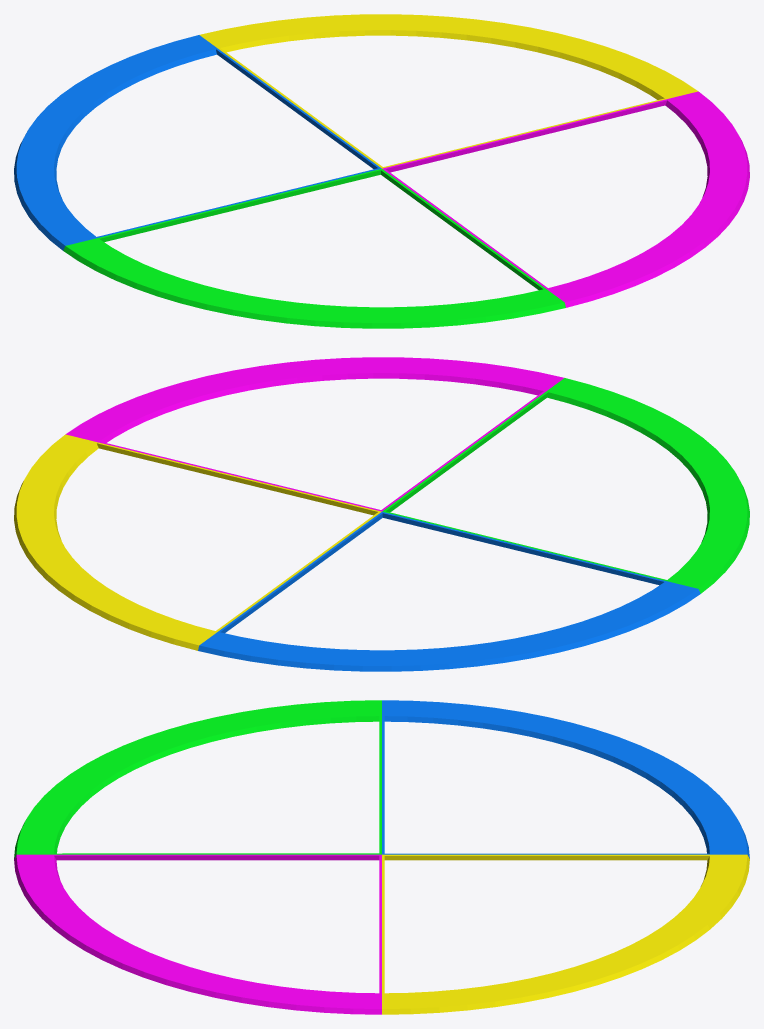
The model's file is Circle_no_Numbers.fbx.
3 renders of one model, top to bottom at view 1: azimuth 30°, elevation 25°; view 2: azimuth 150°, elevation 25°; view 3: azimuth 270°, elevation 25°, orthographic.
Visible parts, largest first — view 1: Segment_x6, Segment_x2, Segment_+10, Segment_x5, Segment_x6_line, Segment_+10_line, Segment_x5_line, Segment_x2_line; view 2: Segment_x5, Segment_+10, Segment_x2, Segment_x6, Segment_x5_line, Segment_x2_line, Segment_x6_line, Segment_+10_line; view 3: Segment_+10, Segment_x5, Segment_x6, Segment_x2, Segment_x2_line, Segment_+10_line, Segment_x6_line, Segment_x5_line.
Part boxes in pixels (bbox=[...]): Segment_x6: bbox=[63, 238, 565, 328]; Segment_x2: bbox=[199, 14, 698, 99]; Segment_+10: bbox=[546, 91, 749, 307]; Segment_x5: bbox=[14, 35, 217, 250]; Segment_x6_line: bbox=[64, 168, 564, 312]; Segment_+10_line: bbox=[382, 92, 709, 307]; Segment_x5_line: bbox=[50, 35, 381, 250]; Segment_x2_line: bbox=[201, 30, 697, 168]; Segment_x5: bbox=[198, 581, 700, 671]; Segment_+10: bbox=[65, 357, 564, 442]; Segment_x2: bbox=[14, 434, 217, 650]; Segment_x6: bbox=[546, 378, 749, 593]; Segment_x5_line: bbox=[199, 511, 700, 656]; Segment_x2_line: bbox=[53, 434, 381, 650]; Segment_x6_line: bbox=[382, 382, 713, 591]; Segment_+10_line: bbox=[68, 373, 562, 511]; Segment_+10: bbox=[14, 854, 381, 1014]; Segment_x5: bbox=[382, 700, 749, 858]; Segment_x6: bbox=[15, 700, 381, 854]; Segment_x2: bbox=[382, 856, 748, 1014]; Segment_x2_line: bbox=[382, 854, 749, 1014]; Segment_+10_line: bbox=[14, 854, 381, 1014]; Segment_x6_line: bbox=[14, 700, 381, 858]; Segment_x5_line: bbox=[382, 700, 749, 858].
Size of the model in its own units: 146 by 1 by 146.
Materials: 1 (1 with a texture image).
